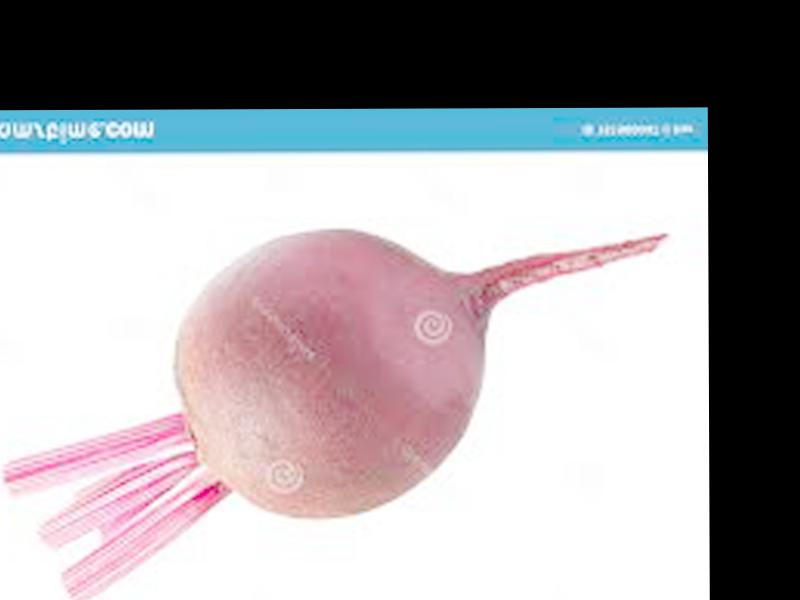Beet: (4, 233, 663, 598)
